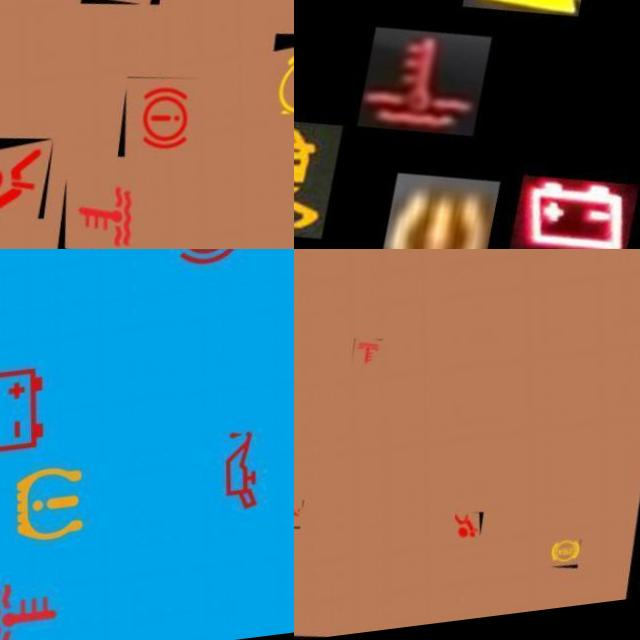Central Warning lamp: (460, 0, 598, 37)
Engine cooling system: (355, 20, 492, 154)
